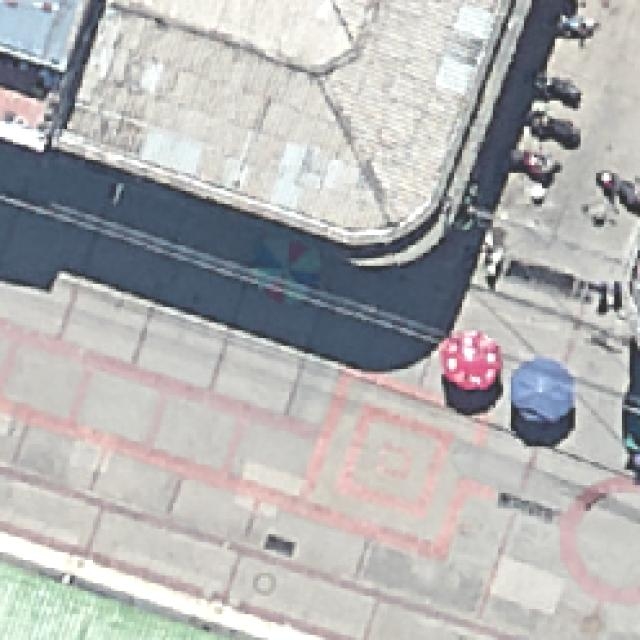vendedor_ambulante: (504, 356, 576, 430), (436, 328, 502, 390)
